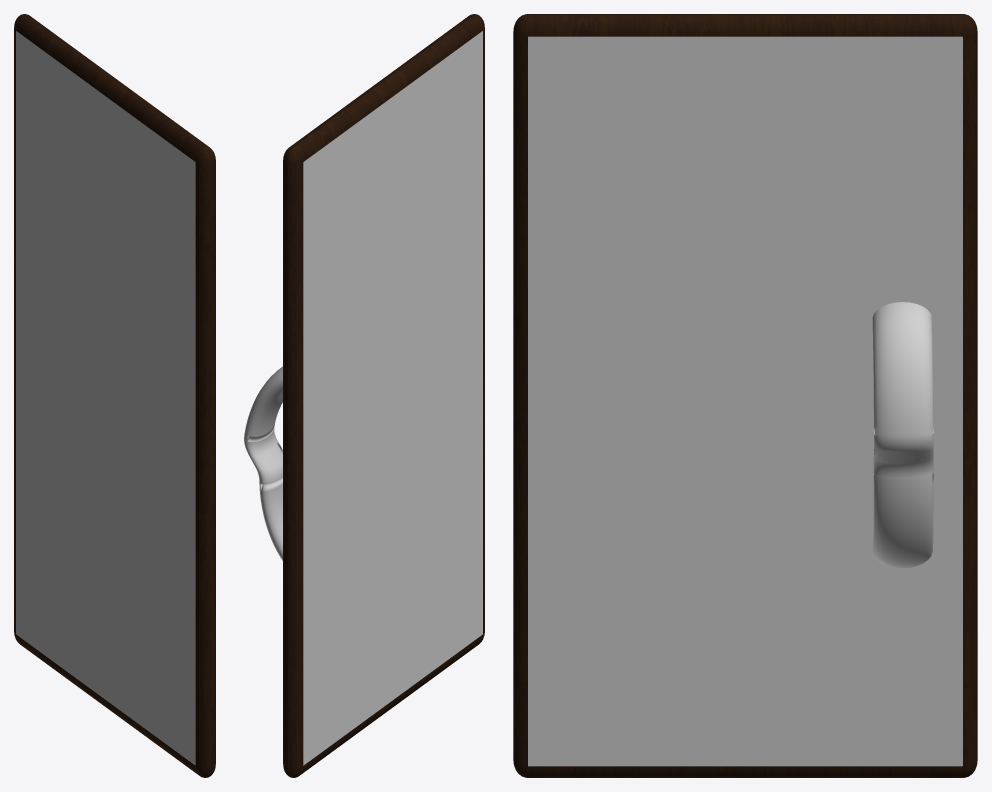
The model's file is T Door (Left).fbx.
3 renders of one model, left to right at view 1: azimuth 30°, elevation 25°; view 2: azimuth 150°, elevation 25°; view 3: azimuth 270°, elevation 25°, orthographic. The views are drawn at different scales.
Visible parts, largest first — view 1: Door_3, Door_4; view 2: Door_3, Door_4, Handle_; view 3: Door_3, Door_4, Handle_.
Boxes of the visible parts, x1,y1,x2,y2 form: Door_3: (16, 31, 195, 765); Door_4: (14, 14, 215, 777); Door_3: (303, 31, 482, 765); Door_4: (283, 14, 484, 777); Handle_: (244, 366, 282, 560); Door_3: (528, 36, 962, 766); Door_4: (513, 14, 977, 777); Handle_: (872, 302, 933, 568).
Bounding box in the file's own units: 9.93 × 77.22 × 42.61.
